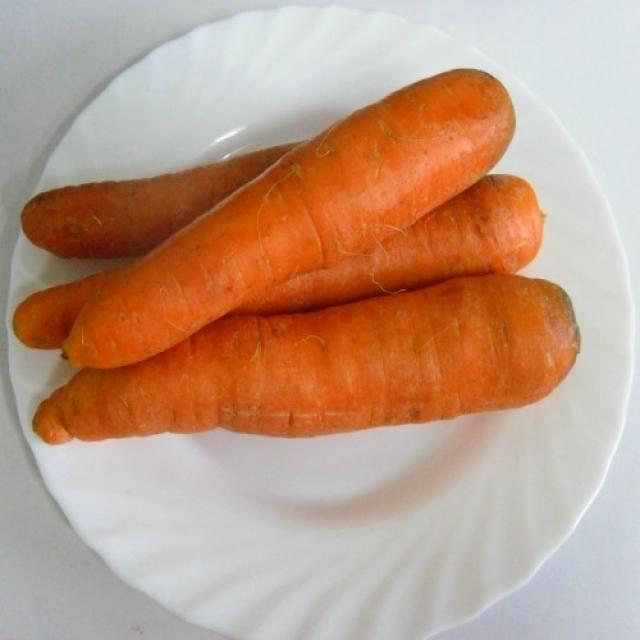Carrot: (52, 68, 504, 363), (26, 273, 573, 457)
